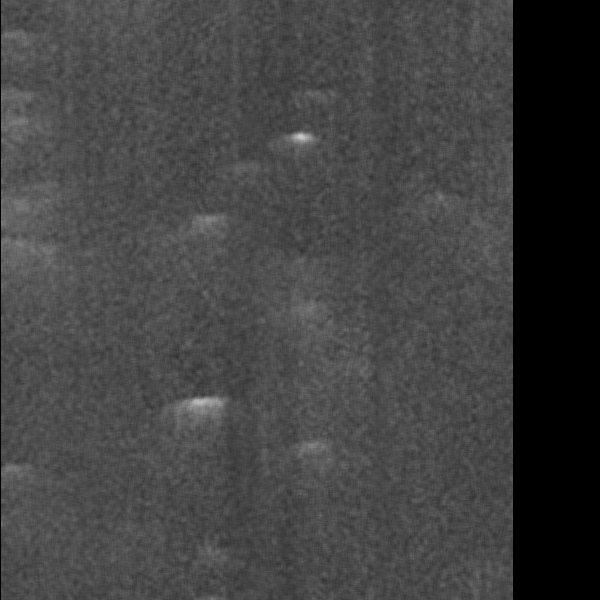spark: (83, 118, 167, 286), (300, 550, 358, 596), (78, 515, 129, 554), (381, 257, 427, 297), (6, 228, 35, 289), (388, 304, 422, 350), (270, 73, 308, 108), (230, 87, 260, 127), (369, 536, 399, 574)
